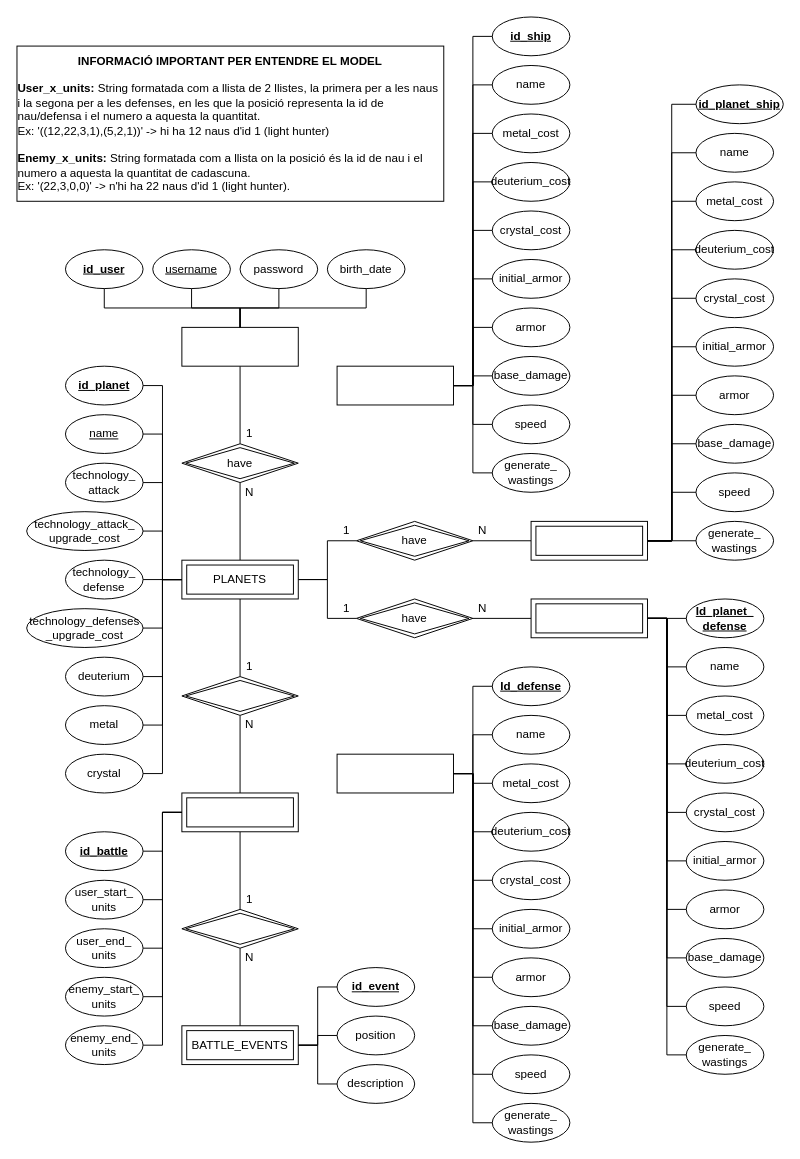
Some shapes in this 800 by 1159 pixel diagram are drawn without their labels. The centre of each missing label's shape, as x and y in pixels:
"BATTLES" belongs at (x=239, y=812).
"DEFENSES" belongs at (x=394, y=773).
"fight" belongs at (x=239, y=695).
"formed by" belongs at (x=239, y=928).
"PLANET_ DEFENSES" belongs at (x=588, y=618).
"PLANET_SHIPS" belongs at (x=588, y=540).
"SHIPS" belongs at (x=394, y=385).
"USERS" belongs at (x=239, y=346).
